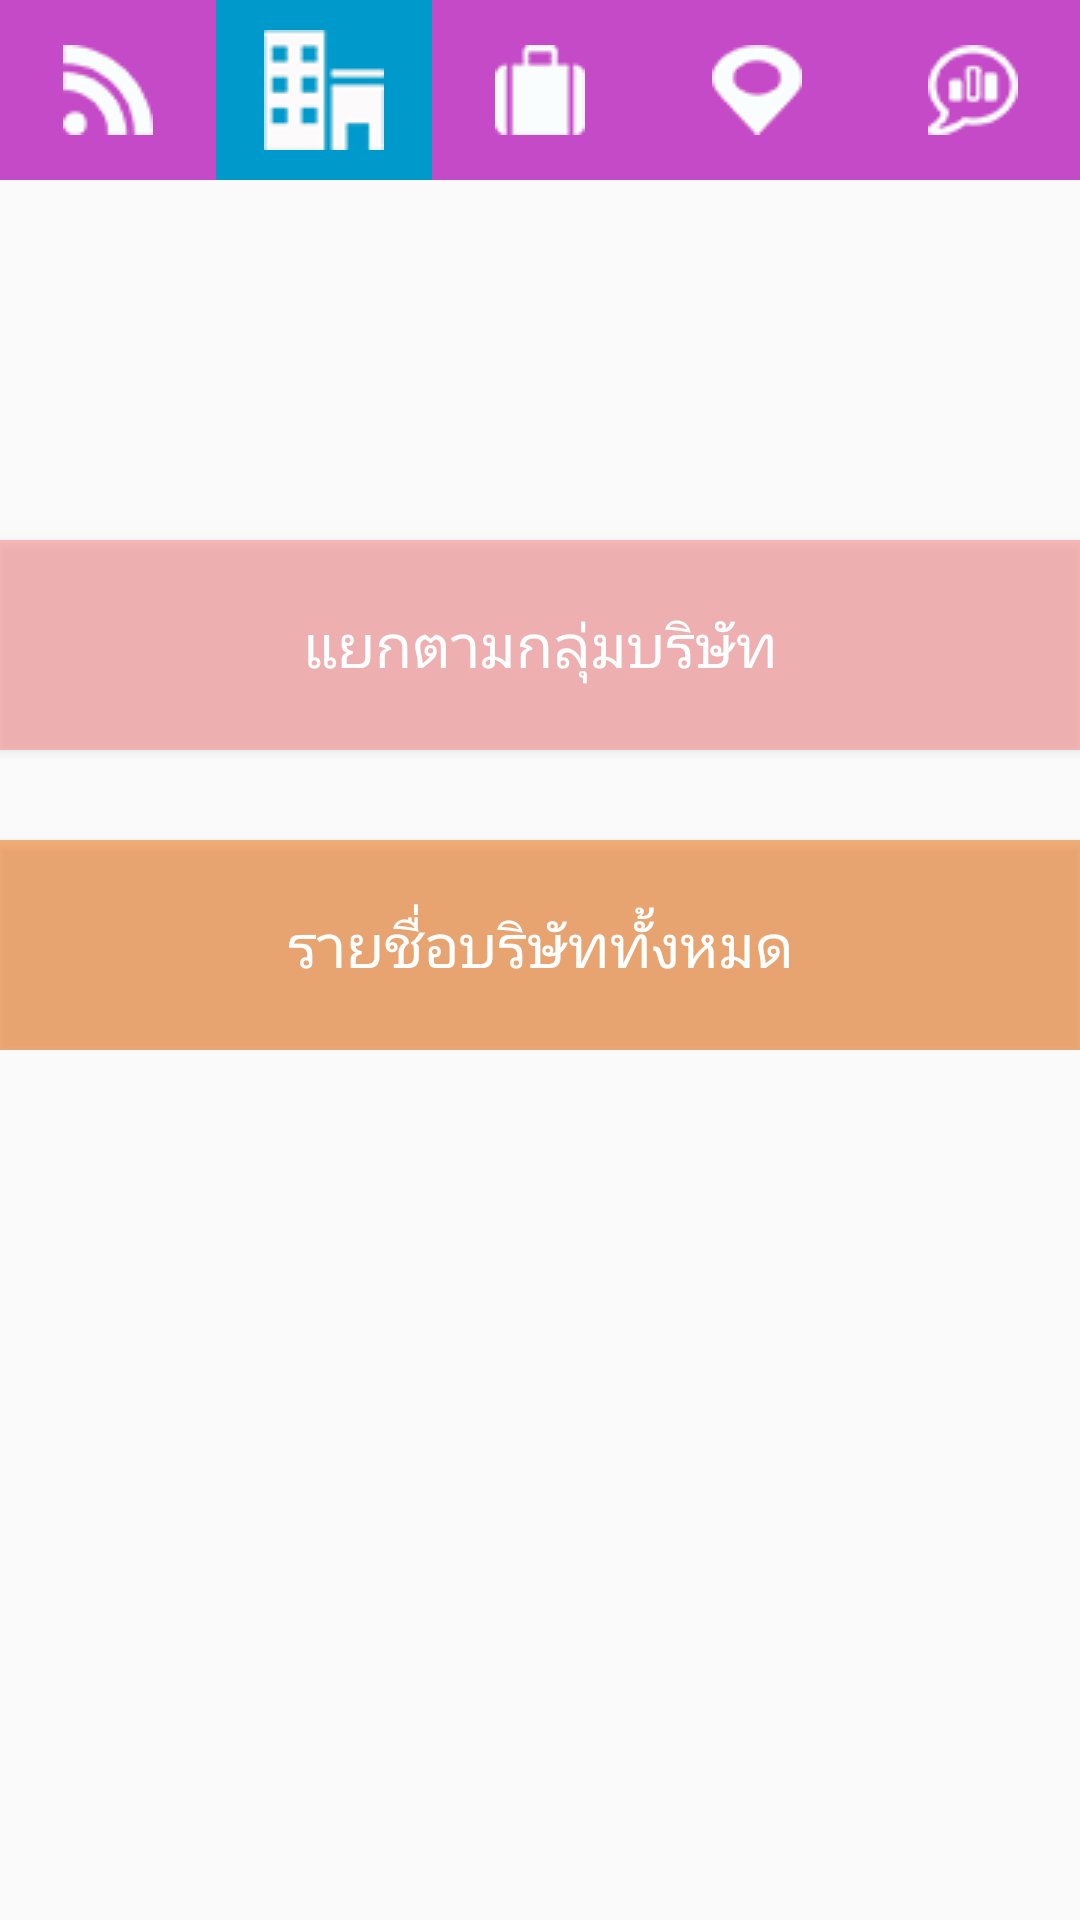

Named icons in this screenshot (1080 × 1920) and their centers, point (x, y):
company: point (324, 90)
feed: point (108, 90)
job: point (540, 90)
poll: point (973, 90)
